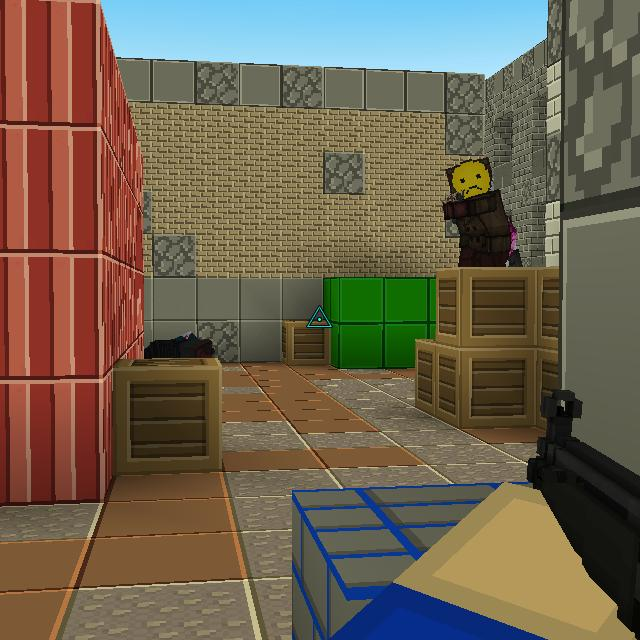enemy: (442, 155, 510, 270), (507, 238, 523, 268)
